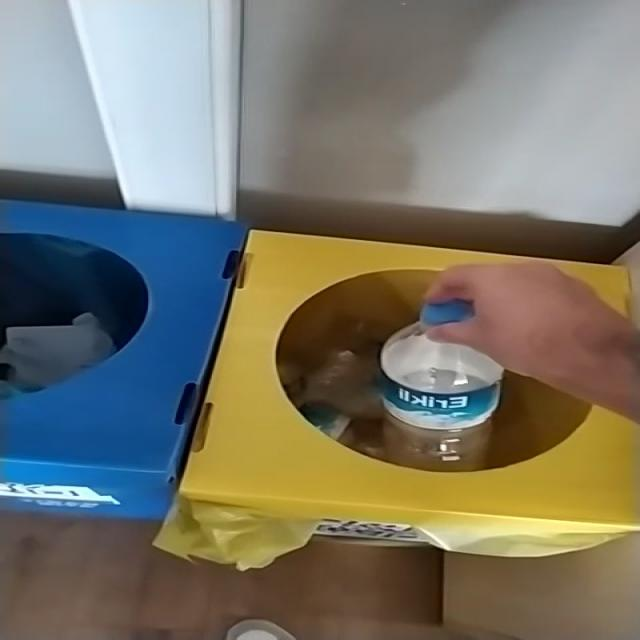plastic: (380, 300, 504, 472)
